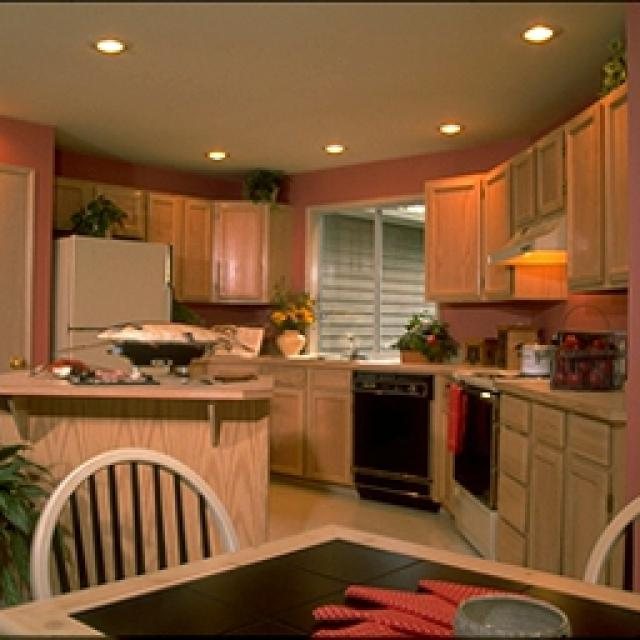2001: (302, 192, 432, 348)
bouquet: (265, 282, 312, 352)
bowl -X: (452, 592, 568, 632)
box contants: (495, 325, 535, 365), (478, 335, 500, 365), (462, 338, 478, 358)
cabinets: (420, 85, 625, 300), (50, 172, 288, 302), (490, 390, 622, 575), (190, 358, 348, 485)
ceiling lamps: (520, 20, 552, 42), (432, 118, 460, 138), (92, 35, 122, 52), (198, 145, 222, 160), (320, 138, 345, 152)
chair: (30, 448, 240, 595)
chair seat: (578, 492, 635, 595)
counter bottom: (0, 368, 268, 398)
dish towels: (440, 382, 460, 452)
dishwasher: (350, 368, 435, 508)
door bars: (0, 163, 32, 370)
door mat: (5, 350, 20, 368)
floor -X: (268, 488, 472, 550)
grill: (102, 318, 222, 378)
napkin ring: (342, 580, 452, 625), (308, 600, 440, 632), (415, 578, 488, 600), (308, 622, 425, 635)
oven cloth: (450, 378, 492, 558)
plant -x: (0, 440, 55, 595), (385, 308, 455, 360), (70, 192, 125, 232), (242, 168, 290, 198), (598, 30, 622, 88)
pot hanger: (548, 328, 618, 385), (520, 340, 552, 372)
refrigerator: (52, 235, 170, 362)
sink basin: (300, 350, 390, 360)
sink occluded: (338, 328, 362, 358)
stove burner: (445, 368, 548, 390)
table -X: (0, 520, 638, 638)
